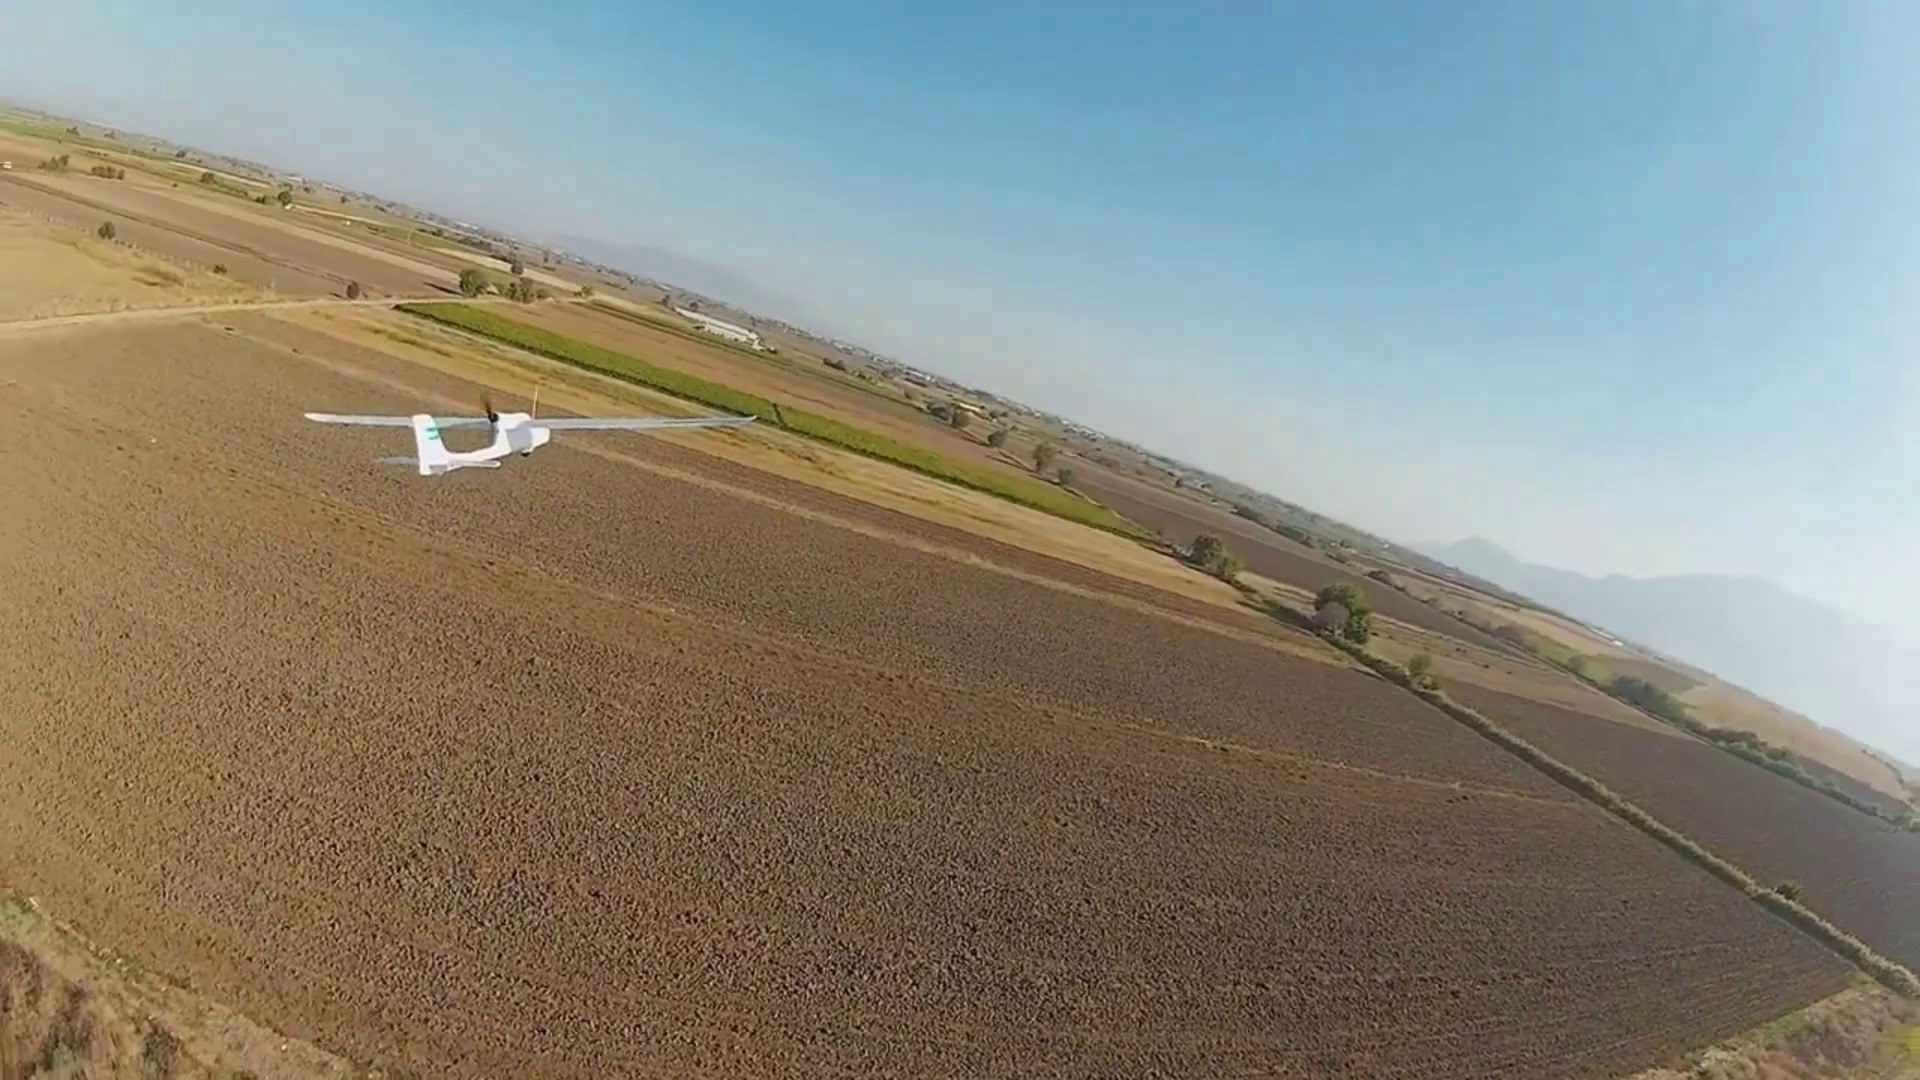airplane: (305, 410, 550, 471)
